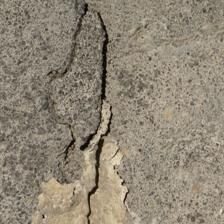Crack: (0, 0, 108, 89), (20, 1, 97, 113)
